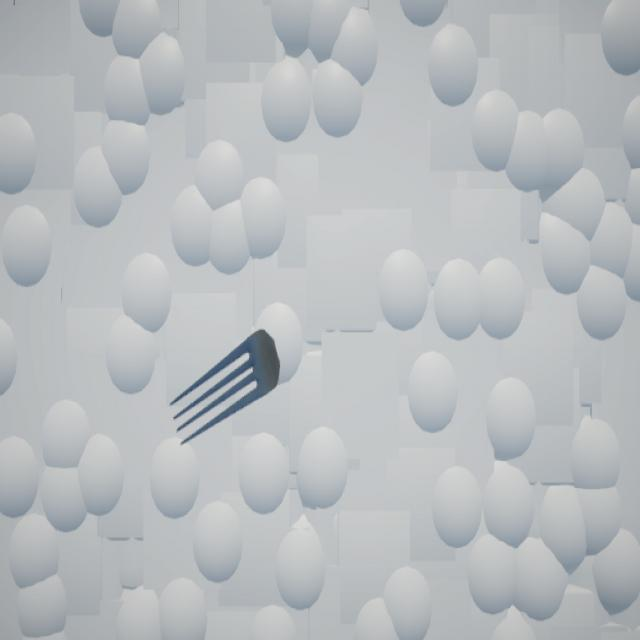top_folk: (171, 330, 282, 446)
